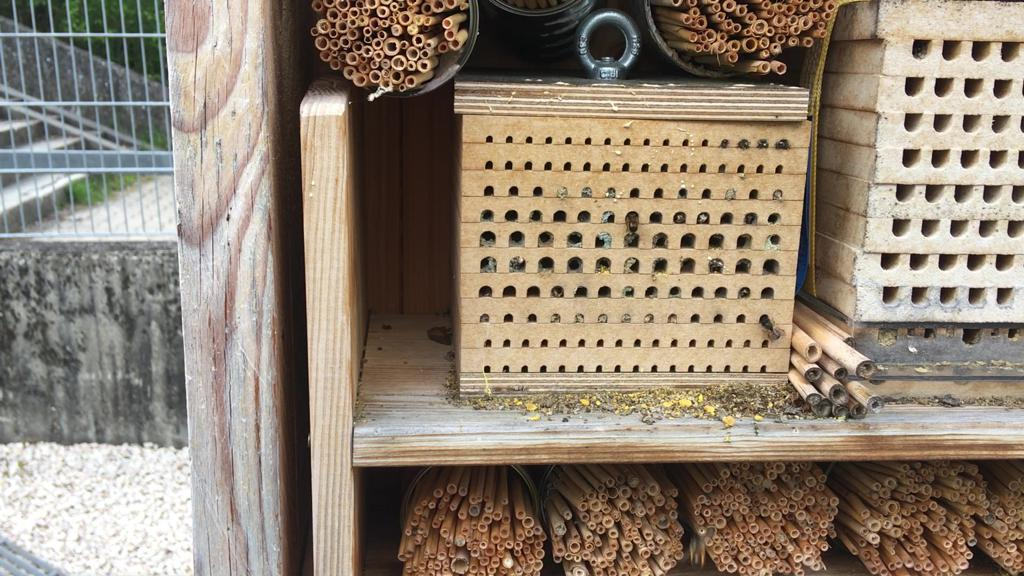bee: (754, 307, 787, 345), (621, 206, 646, 239)
